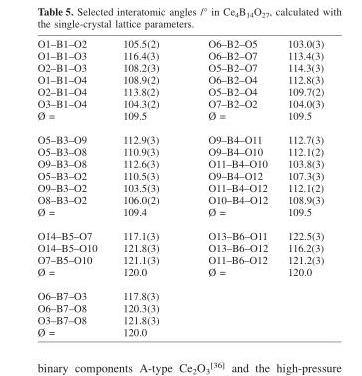table: (36, 37, 323, 337)
table column: (183, 37, 277, 337), (109, 37, 183, 337), (36, 37, 109, 337), (277, 37, 323, 337)
table row: (36, 109, 323, 127), (36, 127, 323, 145), (36, 205, 323, 223), (36, 223, 323, 241), (36, 265, 323, 283), (36, 283, 323, 301), (36, 37, 323, 49), (36, 49, 323, 61), (36, 61, 323, 73), (36, 73, 323, 85), (36, 85, 323, 97), (36, 97, 323, 109), (36, 145, 323, 157), (36, 157, 323, 169), (36, 169, 323, 181), (36, 181, 323, 193), (36, 193, 323, 205), (36, 241, 323, 253), (36, 253, 323, 265), (36, 301, 323, 313), (36, 313, 323, 325), (36, 325, 323, 337)
